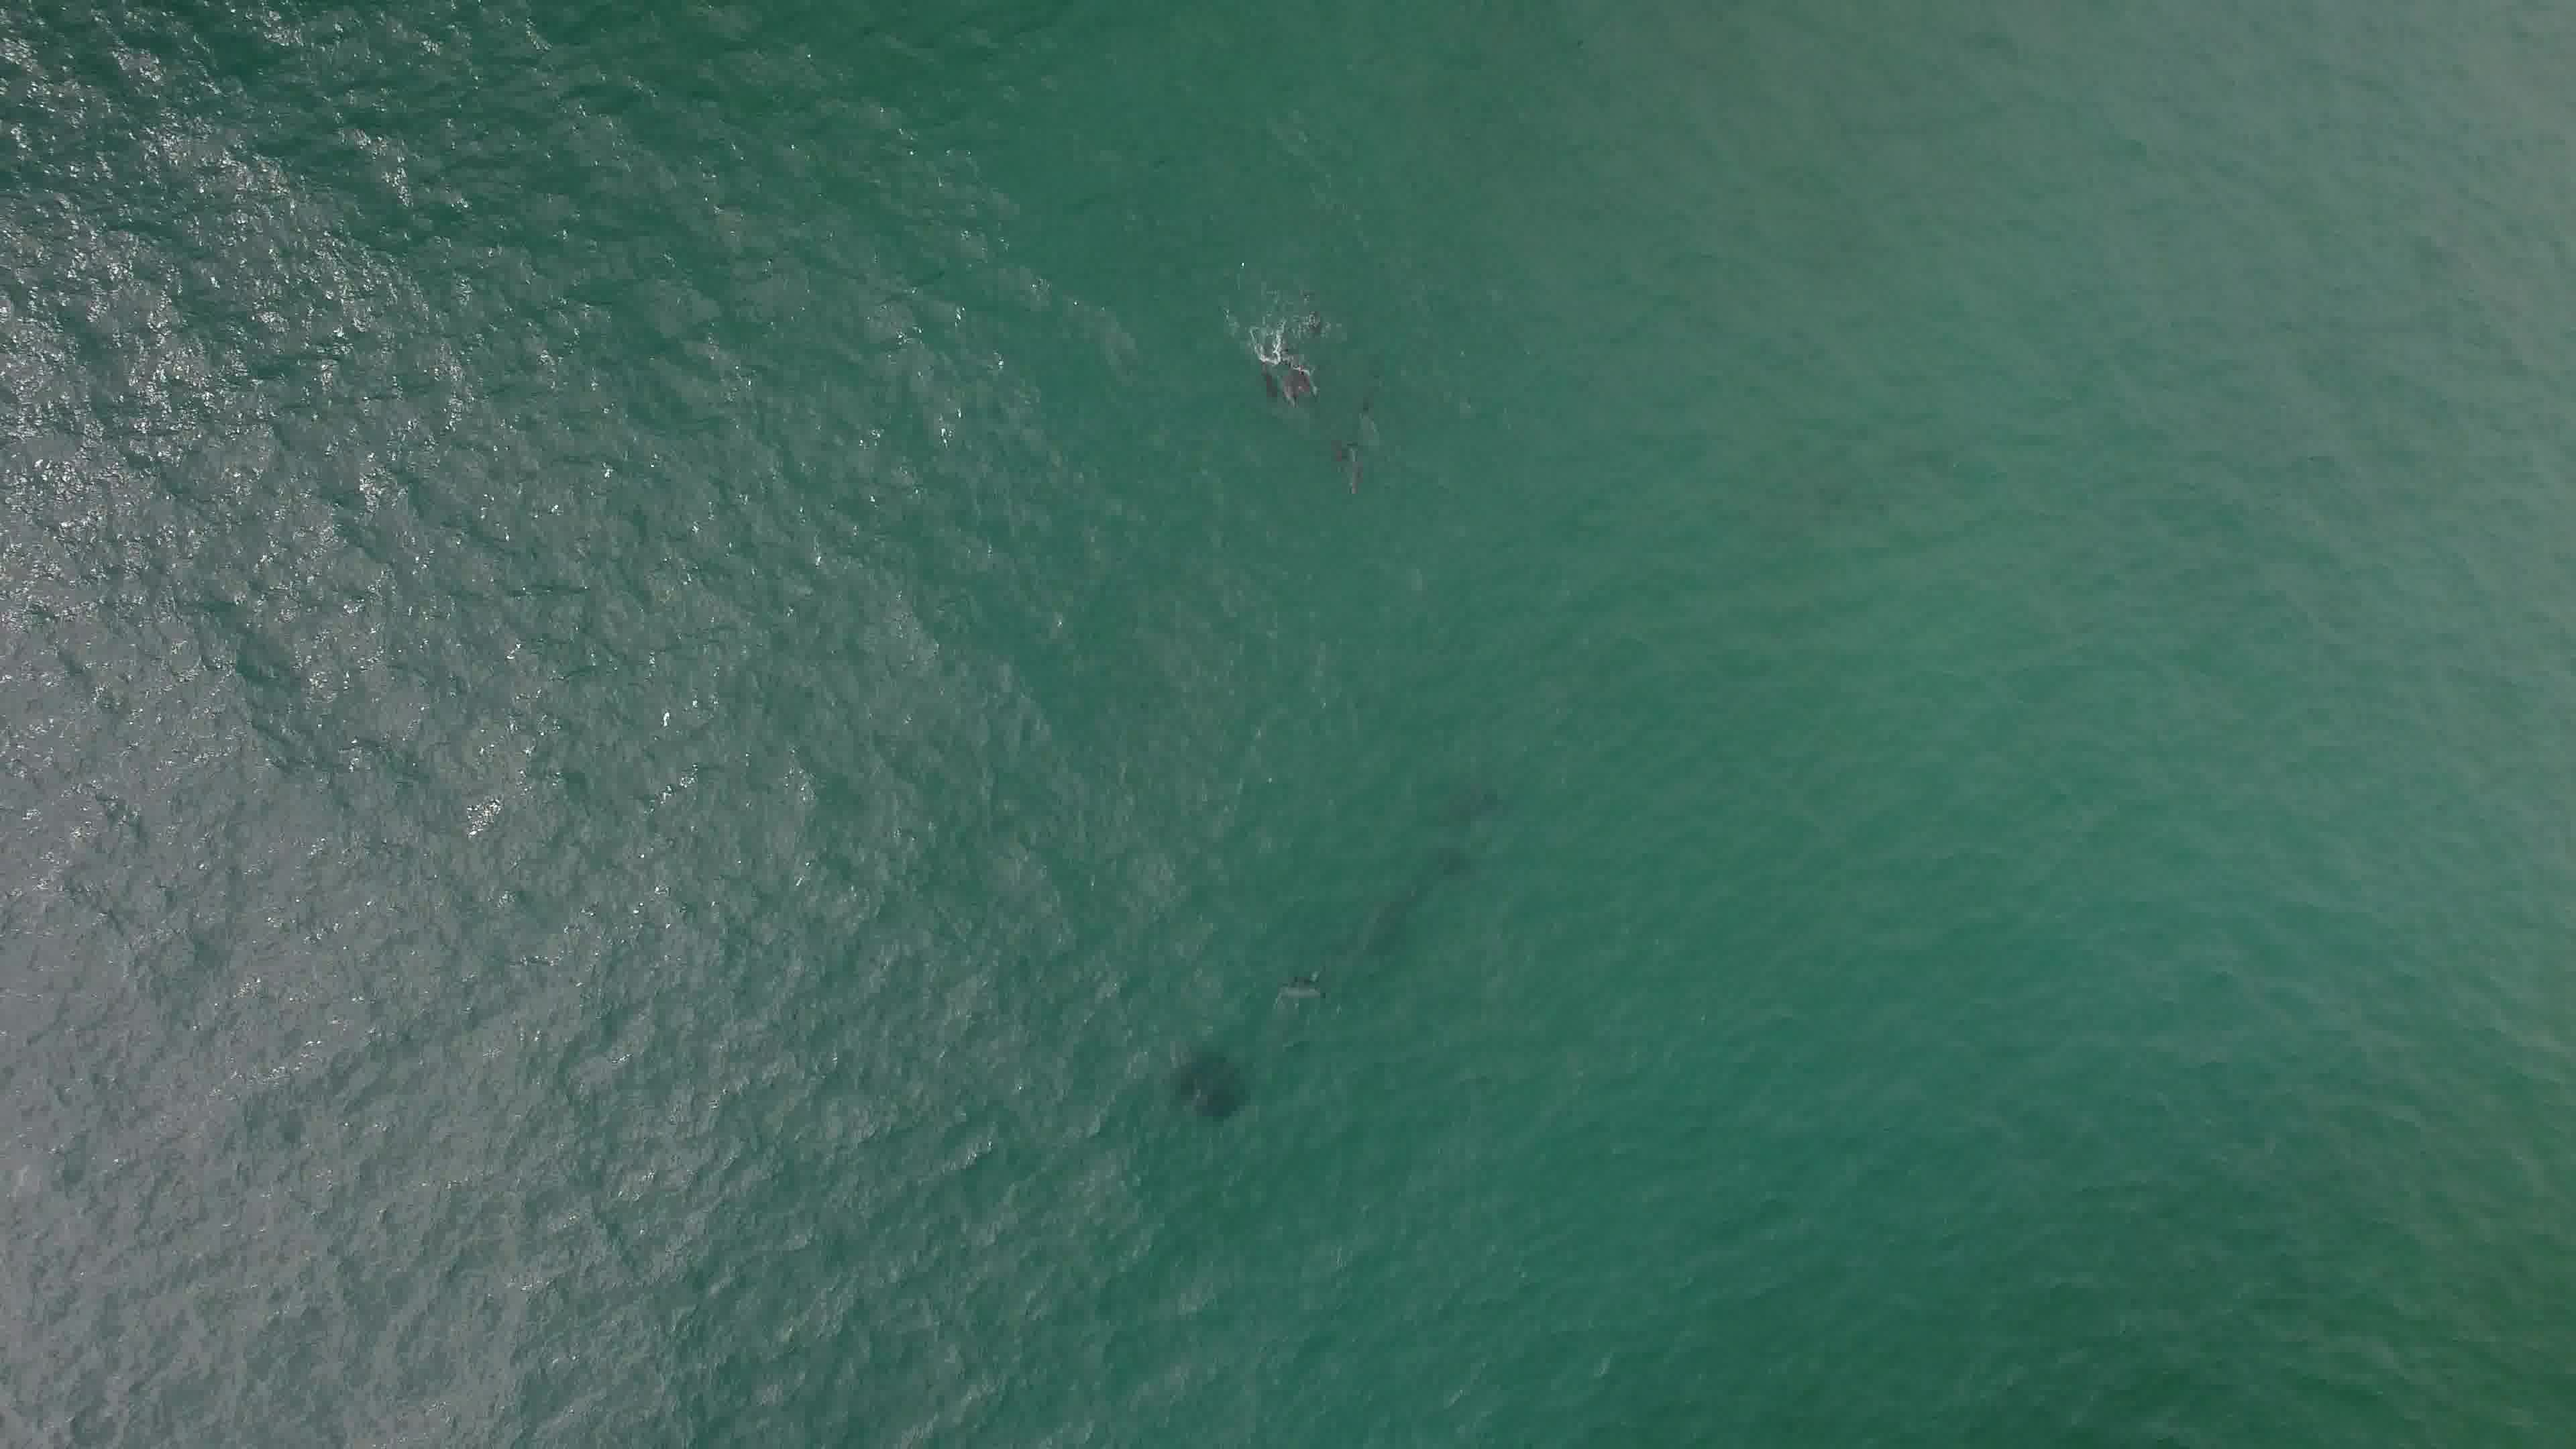dolphin: (1338, 433, 1371, 508), (1269, 354, 1306, 416)
